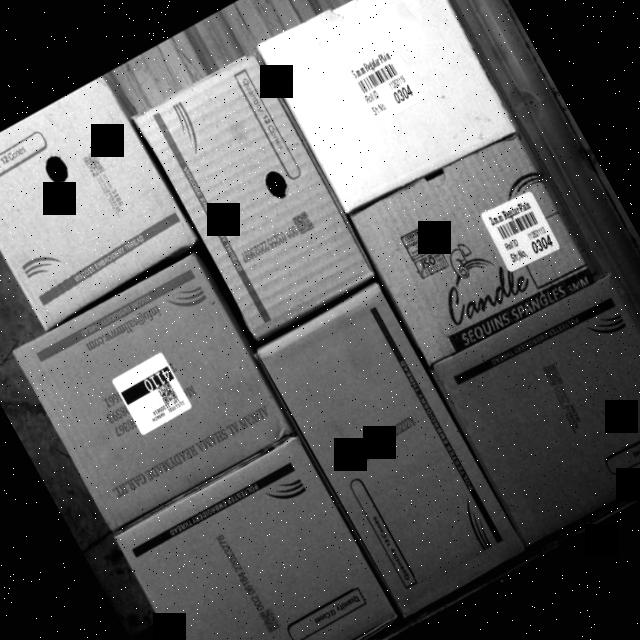box: (257, 282, 530, 618), (15, 252, 294, 530), (138, 57, 378, 343), (349, 126, 600, 374), (113, 435, 400, 640), (431, 268, 640, 545), (258, 0, 516, 215), (0, 74, 197, 329)
